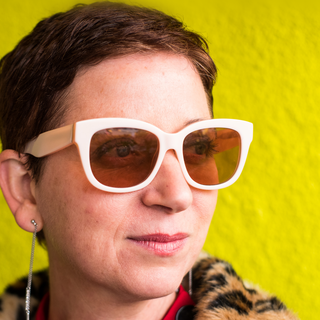eye: (96, 138, 141, 164), (180, 139, 216, 160)
